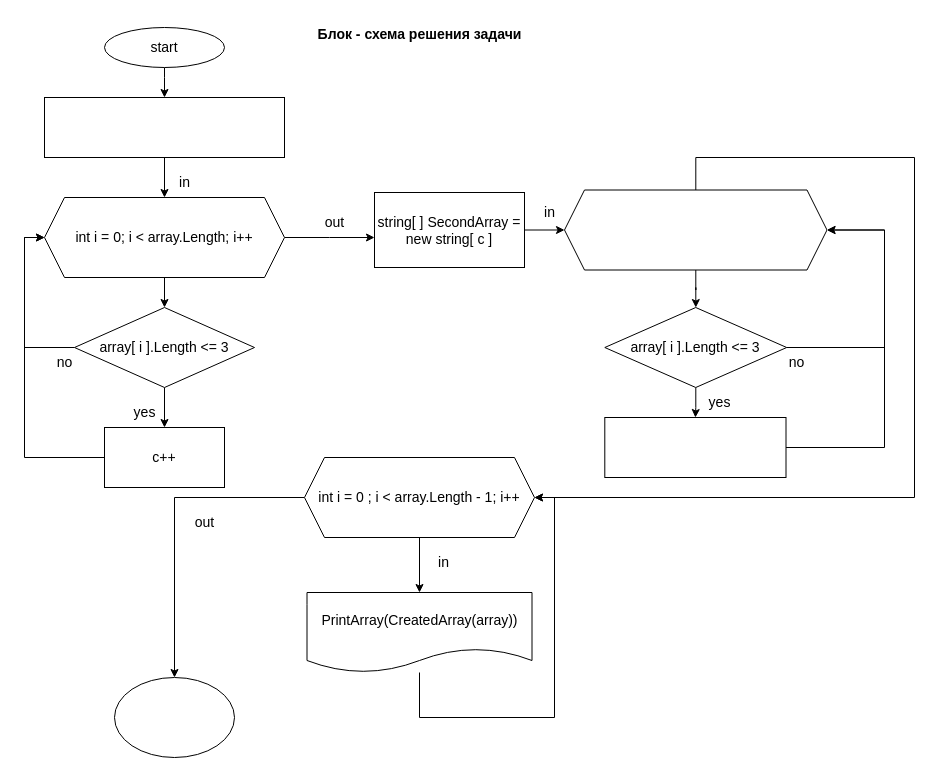
The diagram is 940 pixels wide and 775 high, and some of its shapes have lost their labels. Each missing label, with the centre of its shape:
end: the point at 174,717
int i = 0;i < array.Length; i++: the point at 695,229
SecondArray[ j ] = array [ i ] j++: the point at 695,447
string[ ] array = { ... } int c = 0 int j = 0: the point at 164,127
